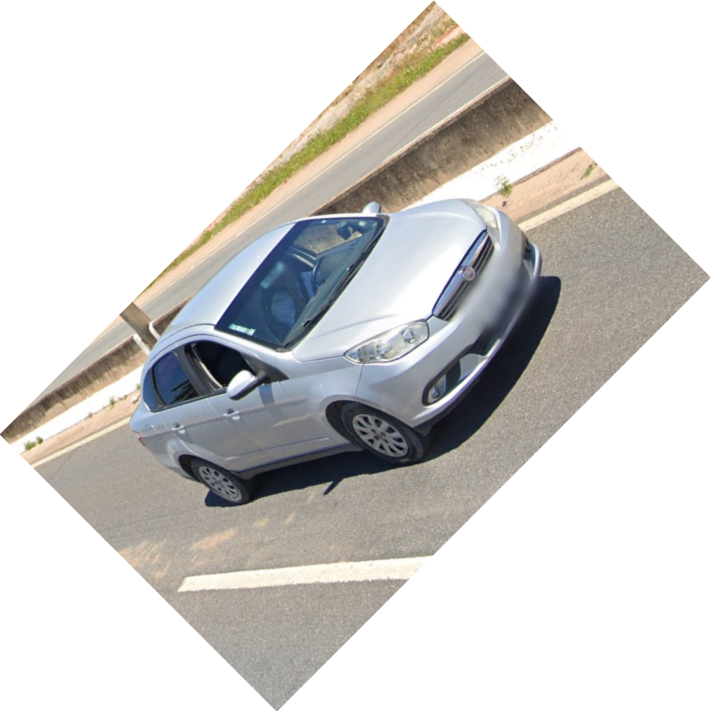car: (129, 192, 546, 504)
